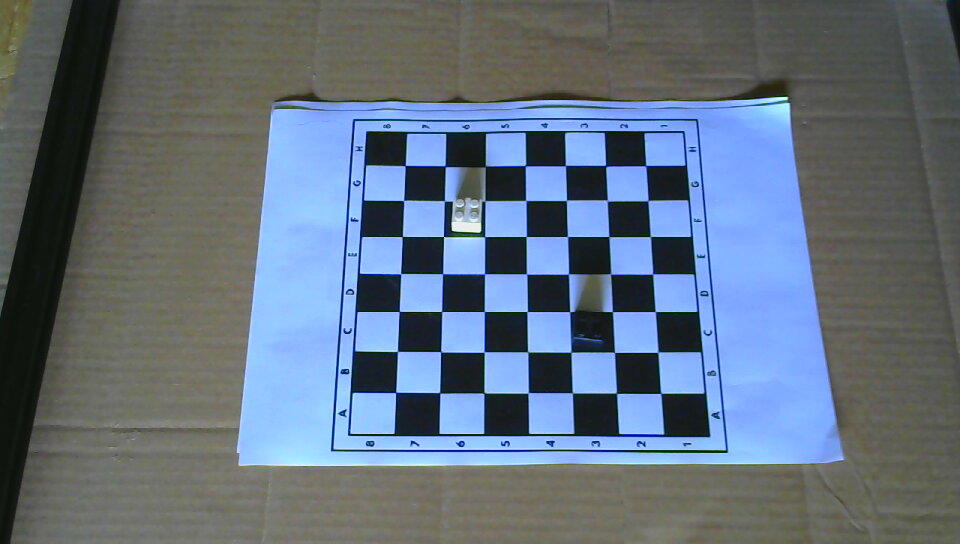bp: (570, 307, 609, 350)
wp: (449, 194, 486, 233)
